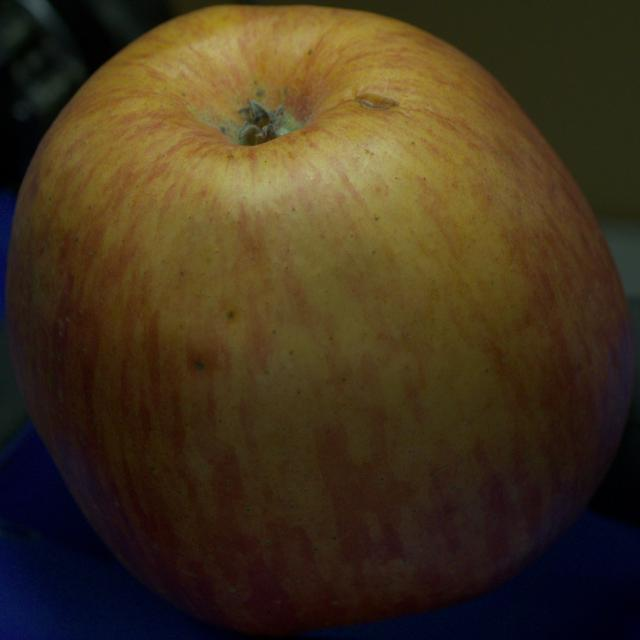apple: (6, 6, 633, 634)
pest: (194, 362, 203, 369)
scratch: (357, 92, 398, 109)
